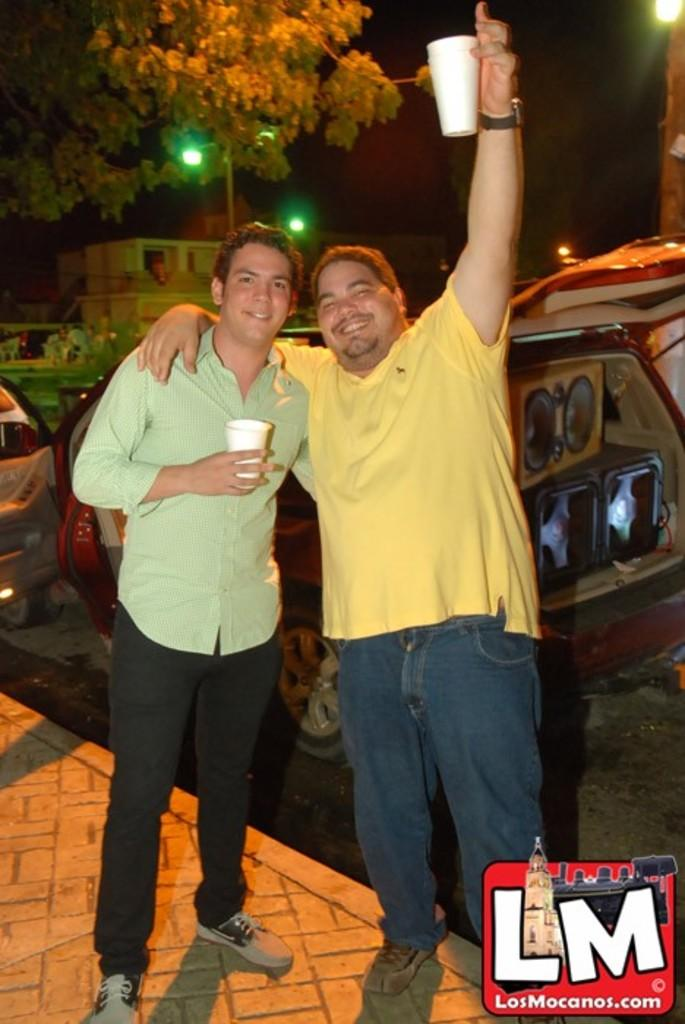Sem Máscara: (317, 258, 402, 359), (219, 239, 288, 340)
